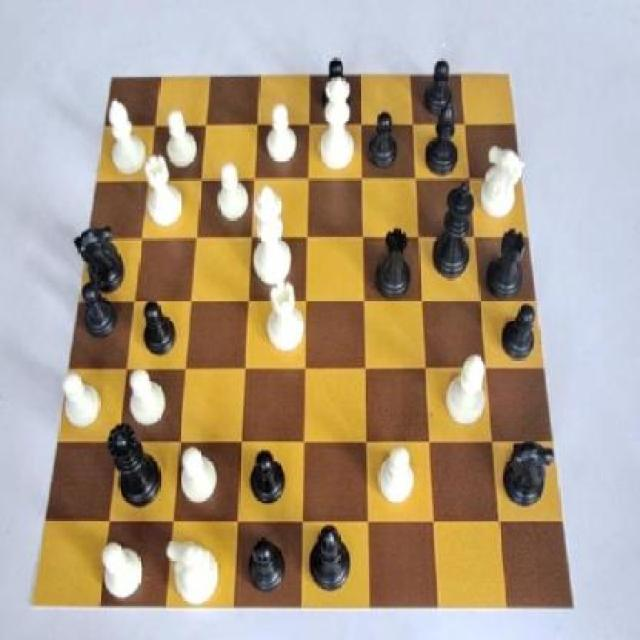bishop: (305, 523, 359, 595), (418, 99, 462, 182)
black-bishop: (426, 178, 475, 292)
black-king: (72, 215, 130, 302), (500, 432, 558, 516)
black-knight: (240, 530, 292, 604), (417, 40, 461, 121), (77, 276, 125, 350), (242, 440, 292, 509), (136, 297, 184, 366), (362, 102, 406, 174), (497, 298, 541, 362), (320, 48, 355, 113)
black-pawn: (103, 414, 161, 509)
black-queen: (368, 221, 417, 304), (485, 222, 532, 299)
black-rook: (440, 351, 489, 436), (103, 94, 149, 184)
white-bishop: (244, 184, 294, 288)
white-king: (163, 530, 224, 608), (477, 142, 526, 228)
white-knight: (92, 532, 152, 608), (125, 360, 179, 440), (180, 437, 225, 512), (59, 368, 108, 434), (372, 442, 418, 512), (209, 160, 257, 225), (162, 103, 206, 172), (259, 101, 296, 177)
white-pawn: (315, 72, 361, 174)
white-queen: (258, 270, 312, 362), (142, 148, 186, 236)
